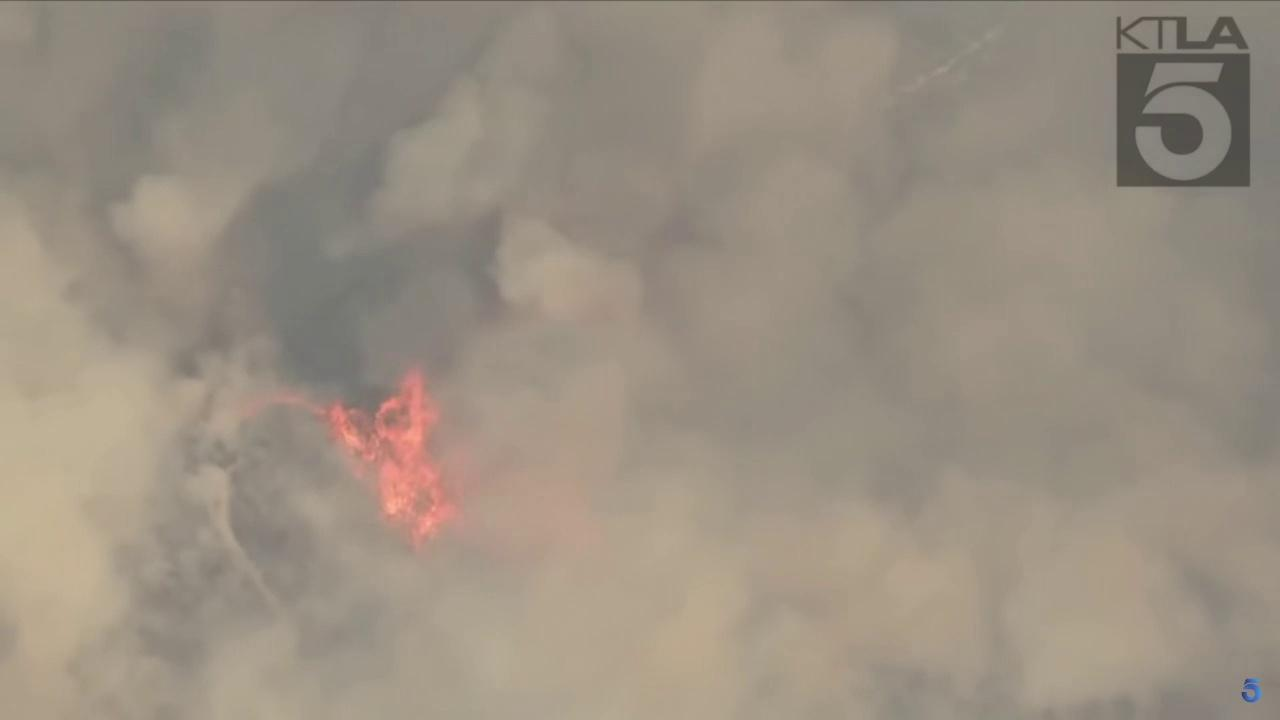fire: (312, 362, 459, 552)
smoke: (0, 0, 1280, 720)
